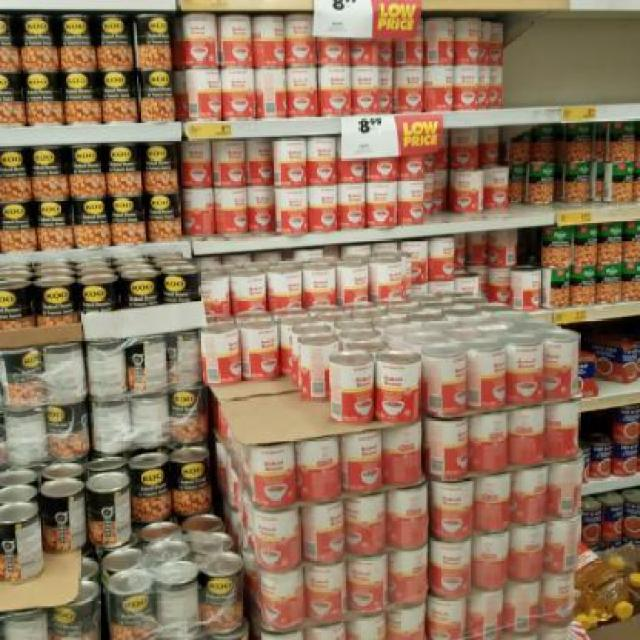Beans: (377, 361, 421, 397), (173, 458, 218, 492), (21, 72, 65, 106), (181, 14, 221, 48), (18, 18, 59, 50), (224, 65, 259, 102), (102, 67, 140, 101), (66, 148, 106, 180), (60, 70, 100, 101), (82, 286, 122, 317), (98, 11, 133, 46), (362, 178, 400, 210), (33, 286, 79, 312), (166, 275, 202, 308), (140, 142, 178, 172), (139, 66, 178, 95), (135, 14, 168, 48), (112, 196, 148, 227), (268, 272, 304, 303), (0, 288, 32, 322), (60, 17, 95, 48), (233, 272, 267, 303), (282, 70, 318, 99), (218, 17, 254, 46), (105, 146, 138, 177), (335, 364, 374, 390), (30, 147, 62, 178), (139, 468, 172, 498), (146, 192, 180, 220), (244, 326, 282, 351), (125, 278, 156, 308), (393, 64, 425, 93), (457, 62, 485, 95), (307, 270, 338, 299), (186, 134, 212, 168), (217, 142, 248, 170), (0, 203, 34, 228), (324, 67, 351, 98), (0, 68, 26, 100), (432, 240, 460, 269), (453, 170, 484, 196), (280, 143, 312, 168), (37, 203, 68, 228), (542, 225, 573, 250), (78, 202, 109, 226), (606, 120, 639, 142), (0, 155, 29, 180), (219, 190, 250, 213), (563, 158, 594, 180), (195, 72, 223, 96), (565, 121, 598, 141), (312, 189, 338, 214), (280, 190, 306, 215), (575, 224, 600, 250), (603, 165, 639, 183), (527, 163, 555, 186), (519, 274, 544, 298), (290, 20, 316, 42), (599, 222, 624, 243), (597, 266, 626, 282), (548, 266, 570, 286), (576, 266, 602, 282)
